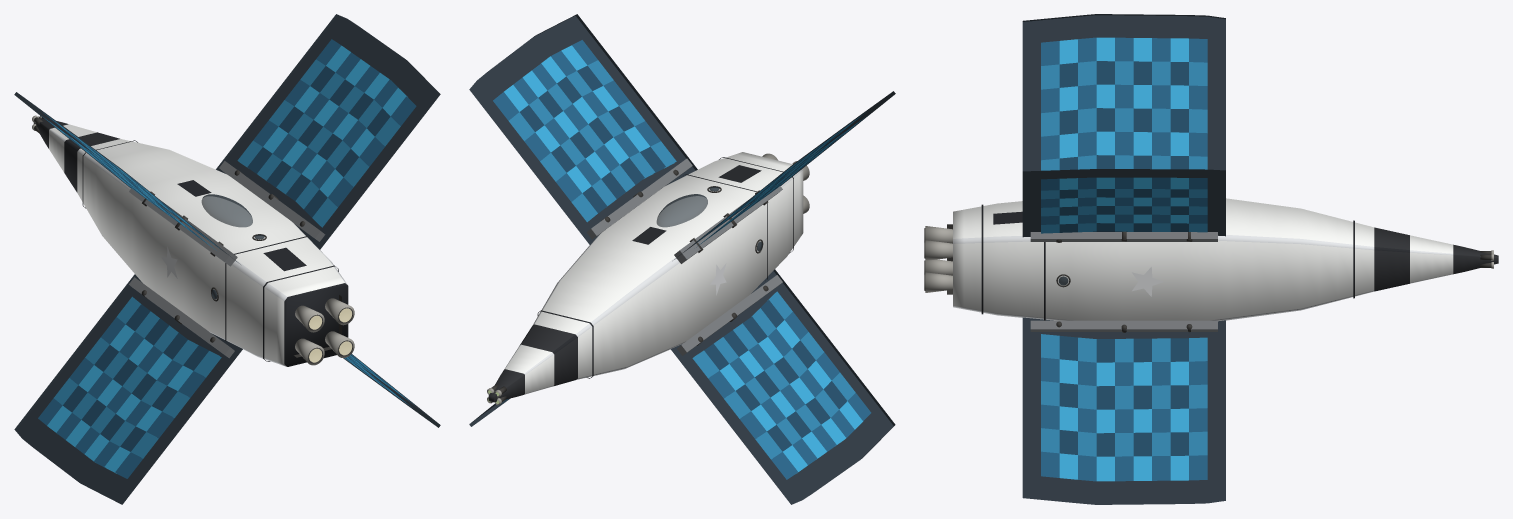
Rendered from Ship_Crosspanel_13.glb.
The picture shows the model from 3 angles, left to right: view 1: azimuth 30°, elevation 25°; view 2: azimuth 150°, elevation 25°; view 3: azimuth 270°, elevation 25°; orthographic projection. The views are drawn at different scales.
Visible parts, largest first — view 1: Fuselage_SquareBody, SolarPanelWing_TopRightRidge_RectangularPhotovoltaicGrid, SolarPanelWing_LowerLeftRidge_RectangularPhotovoltaicGrid, Nose_SquareTaperedForwardSection, SolarPanelWing_TopLeftRidge_RectangularPhotovoltaicGrid, SolarPanelWing_LowerLeftRidge_RootHingeClamp, SolarPanelWing_TopRightRidge_RootHingeClamp, Canopy_DorsalLowSquareBubble, SolarPanelWing_TopLeftRidge_RootHingeClamp, SolarPanelWing_LowerRightRidge_RectangularPhotovoltaicGrid, EngineEmitter, HullAccessPanel_TopAft; view 2: Fuselage_SquareBody, SolarPanelWing_TopRightRidge_RectangularPhotovoltaicGrid, SolarPanelWing_LowerLeftRidge_RectangularPhotovoltaicGrid, Nose_SquareTaperedForwardSection, SolarPanelWing_TopLeftRidge_RectangularPhotovoltaicGrid, SolarPanelWing_LowerLeftRidge_RootHingeClamp, SolarPanelWing_TopRightRidge_RootHingeClamp, Canopy_DorsalLowSquareBubble, SolarPanelWing_TopLeftRidge_RootHingeClamp; view 3: Fuselage_SquareBody, SolarPanelWing_LowerRightRidge_RectangularPhotovoltaicGrid, SolarPanelWing_TopLeftRidge_RectangularPhotovoltaicGrid, SolarPanelWing_TopRightRidge_RectangularPhotovoltaicGrid, Nose_SquareTaperedForwardSection, SolarPanelWing_LowerRightRidge_RootHingeClamp, SolarPanelWing_TopRightRidge_RootHingeClamp.
Boxes of the visible parts, x1,y1,x2,y2 form: Fuselage_SquareBody: (77,139,348,366); SolarPanelWing_TopRightRidge_RectangularPhotovoltaicGrid: (216,14,440,249); SolarPanelWing_LowerLeftRidge_RectangularPhotovoltaicGrid: (14,274,242,504); Nose_SquareTaperedForwardSection: (33,116,119,192); SolarPanelWing_TopLeftRidge_RectangularPhotovoltaicGrid: (14,92,240,264); SolarPanelWing_LowerLeftRidge_RootHingeClamp: (129,277,234,358); SolarPanelWing_TopRightRidge_RootHingeClamp: (219,161,325,241); Canopy_DorsalLowSquareBubble: (201,194,252,227); SolarPanelWing_TopLeftRidge_RootHingeClamp: (129,188,237,266); SolarPanelWing_LowerRightRidge_RectangularPhotovoltaicGrid: (343,354,440,427); EngineEmitter: (309,308,352,362); HullAccessPanel_TopAft: (263,247,306,271); Fuselage_SquareBody: (532,152,803,379); SolarPanelWing_TopRightRidge_RectangularPhotovoltaicGrid: (469,14,697,244); SolarPanelWing_LowerLeftRidge_RectangularPhotovoltaicGrid: (670,269,895,504); Nose_SquareTaperedForwardSection: (488,324,577,402); SolarPanelWing_TopLeftRidge_RectangularPhotovoltaicGrid: (674,91,895,259); SolarPanelWing_LowerLeftRidge_RootHingeClamp: (677,275,782,355); SolarPanelWing_TopRightRidge_RootHingeClamp: (586,158,692,239); Canopy_DorsalLowSquareBubble: (656,194,707,227); SolarPanelWing_TopLeftRidge_RootHingeClamp: (674,186,782,263); Fuselage_SquareBody: (953,198,1374,321); SolarPanelWing_LowerRightRidge_RectangularPhotovoltaicGrid: (1022,317,1225,504); SolarPanelWing_TopLeftRidge_RectangularPhotovoltaicGrid: (1022,14,1225,171); SolarPanelWing_TopRightRidge_RectangularPhotovoltaicGrid: (1022,169,1225,237); Nose_SquareTaperedForwardSection: (1374,227,1498,291); SolarPanelWing_LowerRightRidge_RootHingeClamp: (1030,320,1217,331); SolarPanelWing_TopRightRidge_RootHingeClamp: (1030,232,1217,241).
Size of the model in its own units: 5.57 by 5.57 by 8.62.
